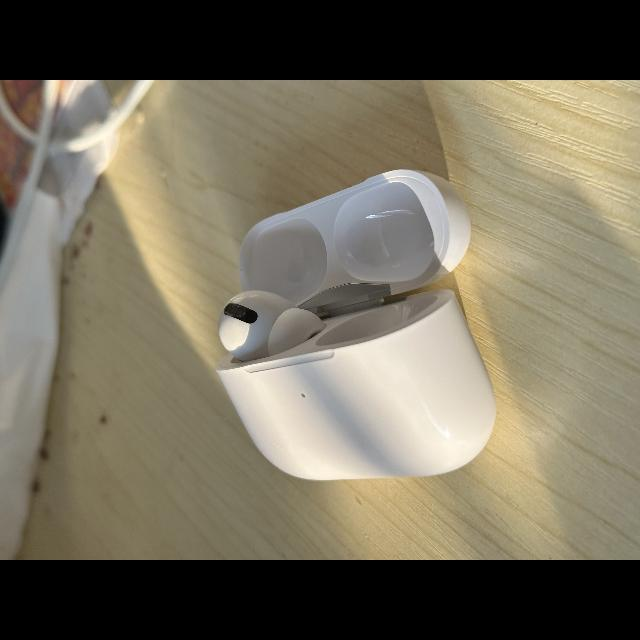AirPods Pro: (216, 169, 496, 480)
